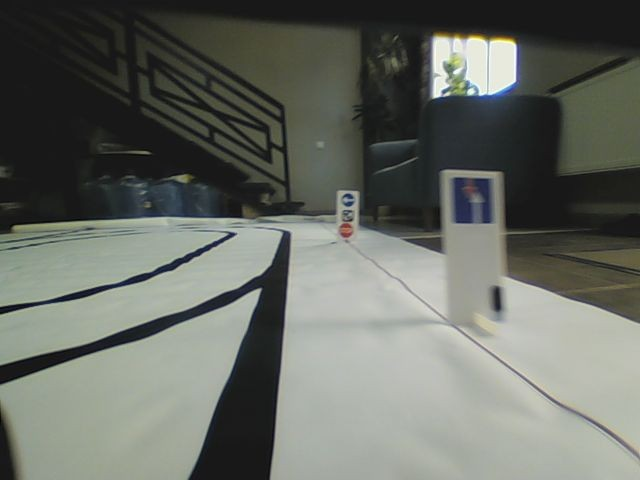priority_movement: (452, 174, 494, 225)
